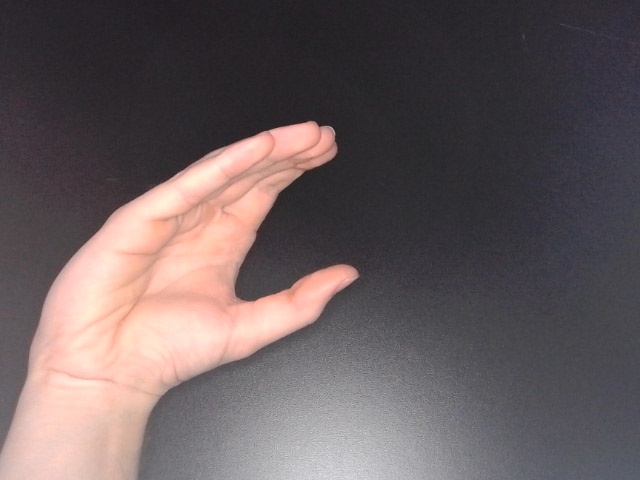c: (23, 116, 366, 409)
